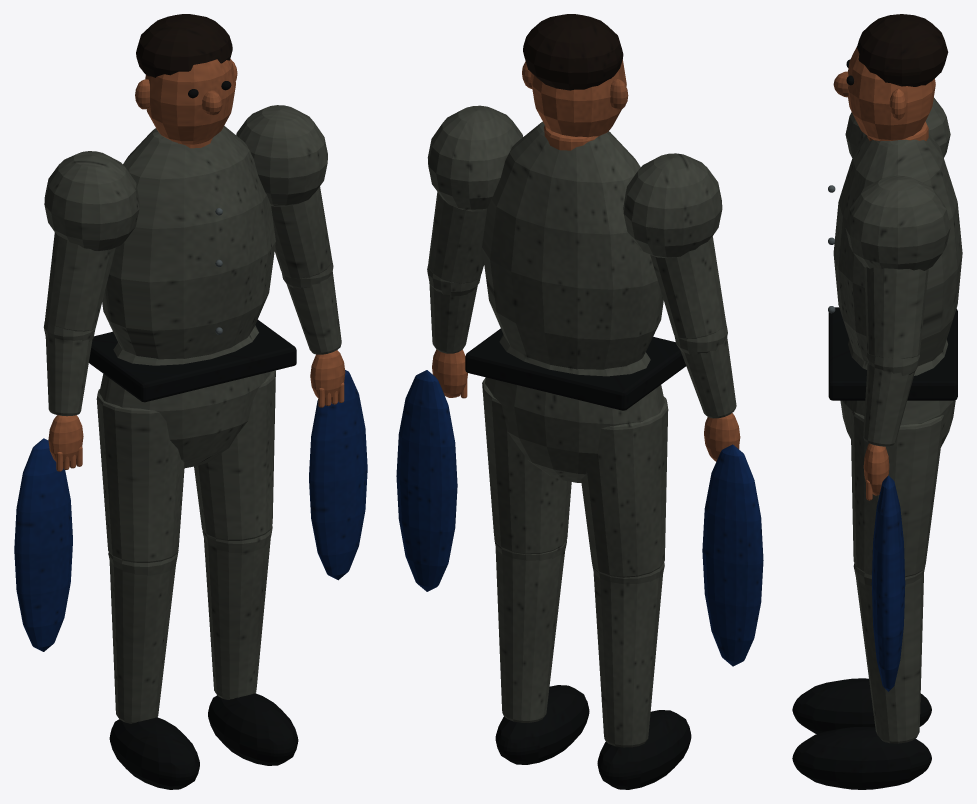
File: PROP-F5195071E480_lod0.glb
The picture shows the model from 3 angles, left to right: view 1: azimuth 30°, elevation 25°; view 2: azimuth 150°, elevation 25°; view 3: azimuth 270°, elevation 25°; orthographic projection. The views are drawn at different scales.
Visible parts, largest first — view 1: torso.036, thigh.035, diving_fins, calf.035, shoulder.036, shoe.035, upper_arm.036, pelvis.035, belt.035, forearm.036, head.035, hair_cap.035 (+4 smaller); view 2: torso.036, diving_fins, thigh.035, calf.035, shoulder.036, pelvis.035, upper_arm.036, shoe.035, belt.035, hair_cap.035, forearm.036, head.035 (+4 smaller); view 3: torso.036, shoe.035, shoulder.036, thigh.035, calf.035, diving_fins, upper_arm.036, hair_cap.035, belt.035, head.035, forearm.036, pelvis.035 (+4 smaller).
Part boxes in pixels (x1,y1,x2,y2): torso.036: (102,126,275,359); thigh.035: (96,370,275,562); diving_fins: (14,370,367,651); calf.035: (109,539,270,723); shoulder.036: (44,105,327,251); shoe.035: (109,693,298,789); upper_arm.036: (45,187,331,331); pelvis.035: (99,325,271,467); belt.035: (89,320,296,402); forearm.036: (45,272,341,416); head.035: (145,58,235,144); hair_cap.035: (136,14,232,77); torso.036: (482,121,663,369); diving_fins: (396,370,763,666); thigh.035: (482,377,668,577); calf.035: (495,547,663,747); shoulder.036: (427,105,722,258); pelvis.035: (485,334,664,482); upper_arm.036: (428,192,726,338); shoe.035: (495,685,691,789); belt.035: (465,328,685,410); hair_cap.035: (523,14,623,90); forearm.036: (429,283,736,418); head.035: (530,60,626,137); torso.036: (833,133,962,366); shoe.035: (792,678,931,789); shoulder.036: (845,98,950,270); thigh.035: (850,411,944,577); calf.035: (855,573,923,743); diving_fins: (871,475,905,691); upper_arm.036: (864,267,928,358); hair_cap.035: (857,14,948,86); belt.035: (828,307,957,400); head.035: (848,47,935,141); forearm.036: (863,362,914,446); pelvis.035: (840,339,955,446).
Size of the model in its own units: 0.8588 by 1.71 by 0.3561.
Materials: 6 (6 with a texture image).
